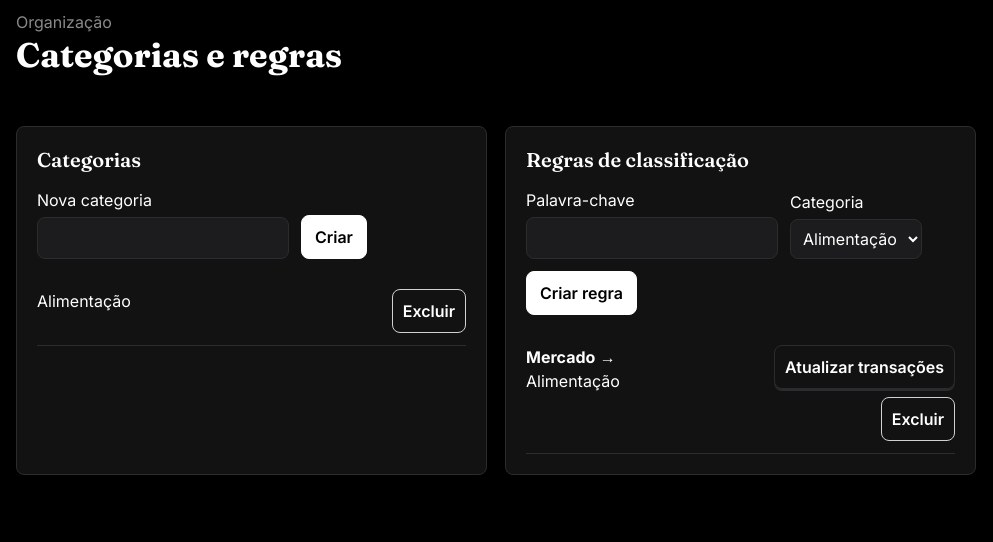
Test: CategoriesPage › shows the API message when category deletion fails
Click the button with aria-label "excluir alimentação" at (429, 311), box [392,289,466,333]
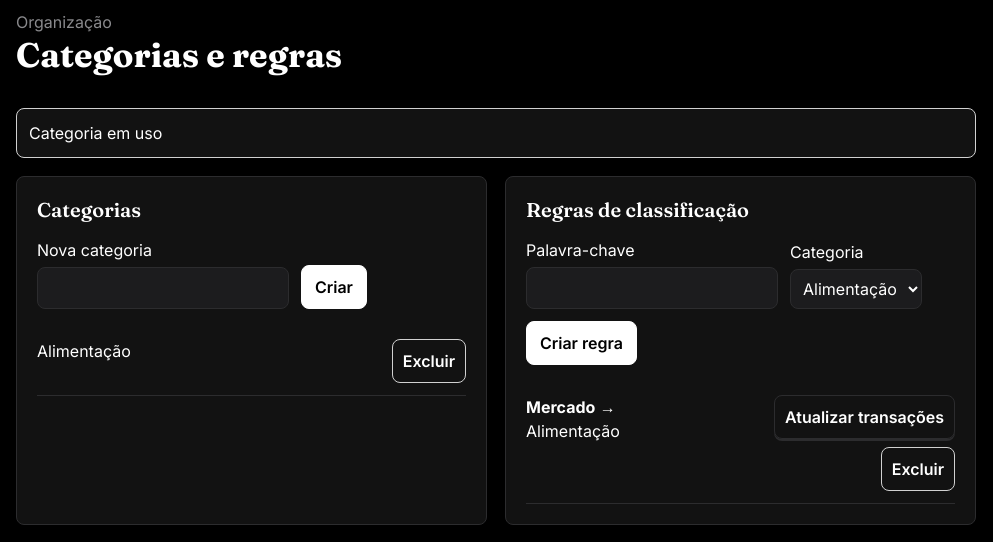
Expected: the message reads "Categoria em uso", [29,123,162,143]
